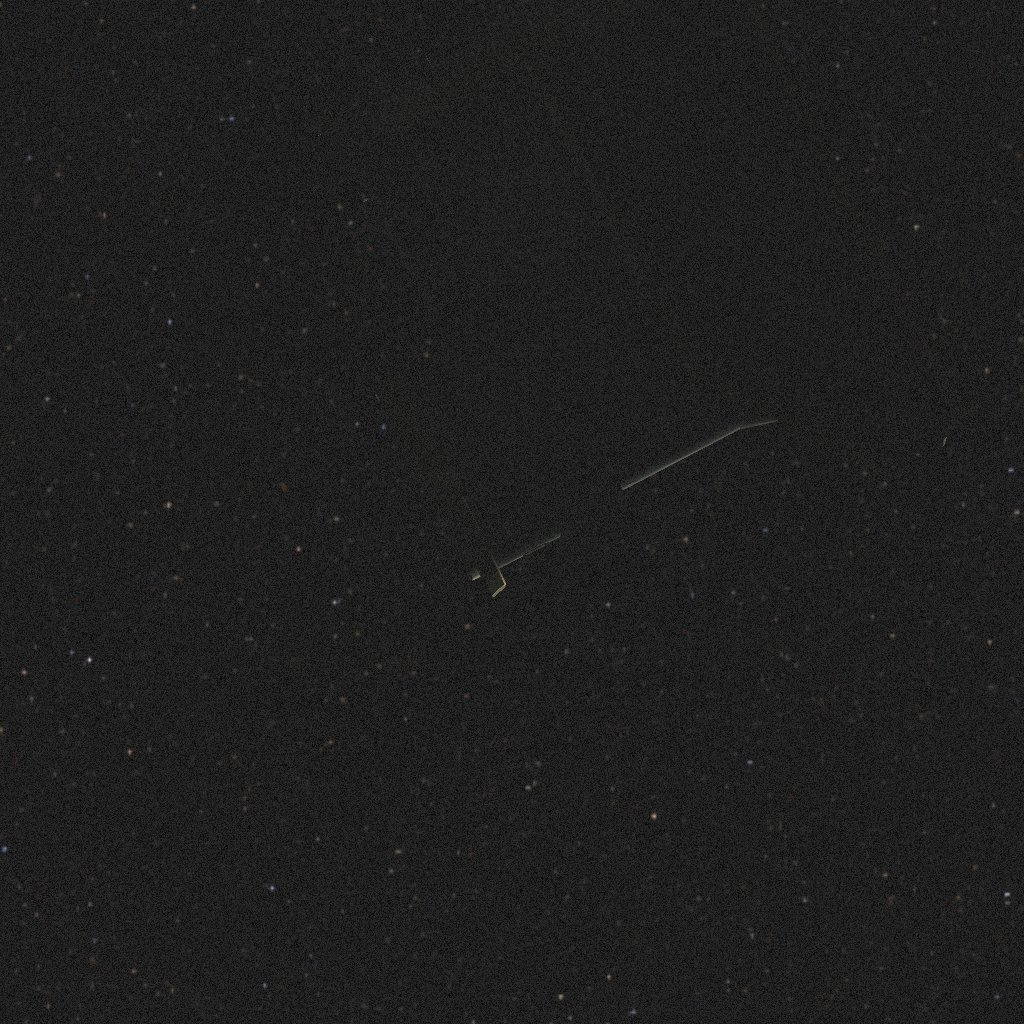cheops: (304, 0, 968, 598)
